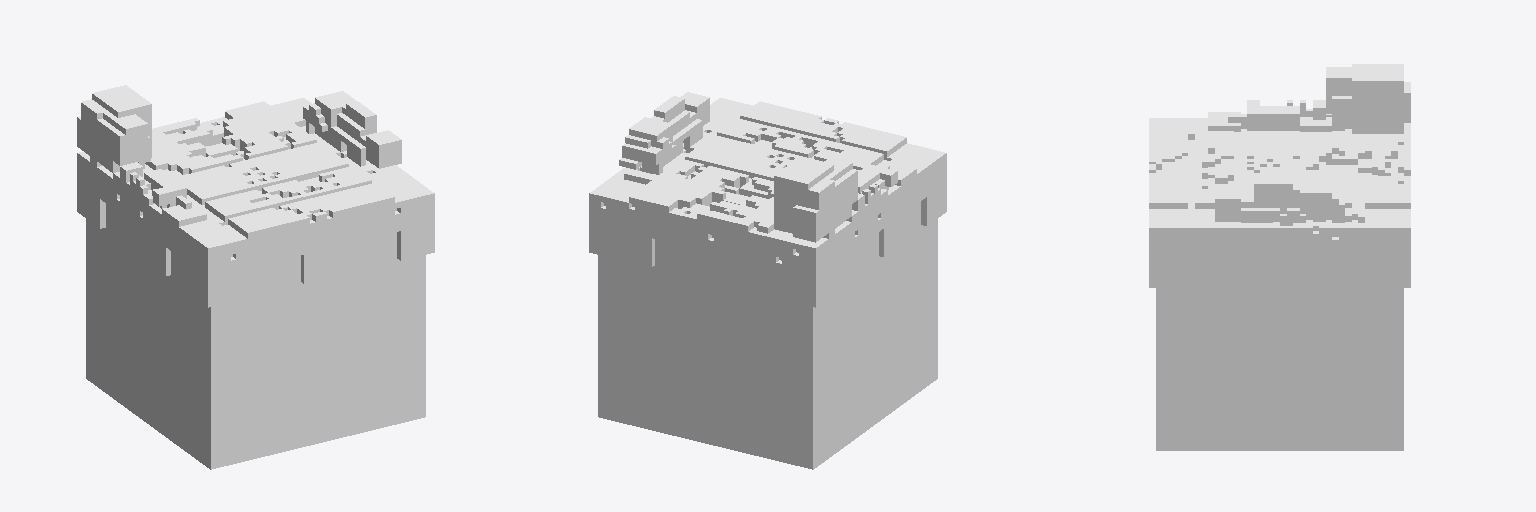
File: tile_base_road_2.obj
3 views of the same model, side by side, from view 1: azimuth 30°, elevation 25°; view 2: azimuth 150°, elevation 25°; view 3: azimuth 270°, elevation 25° (orthographic).
Parts seen in each view (by area): view 1: tile_base_road_2; view 2: tile_base_road_2; view 3: tile_base_road_2.
Boxes of the visible parts, x1=… form: tile_base_road_2: x1=77, y1=85, x2=434, y2=469; tile_base_road_2: x1=589, y1=92, x2=946, y2=469; tile_base_road_2: x1=1149, y1=64, x2=1410, y2=450.
Bounding box in the file's own units: 40 × 48 × 40.